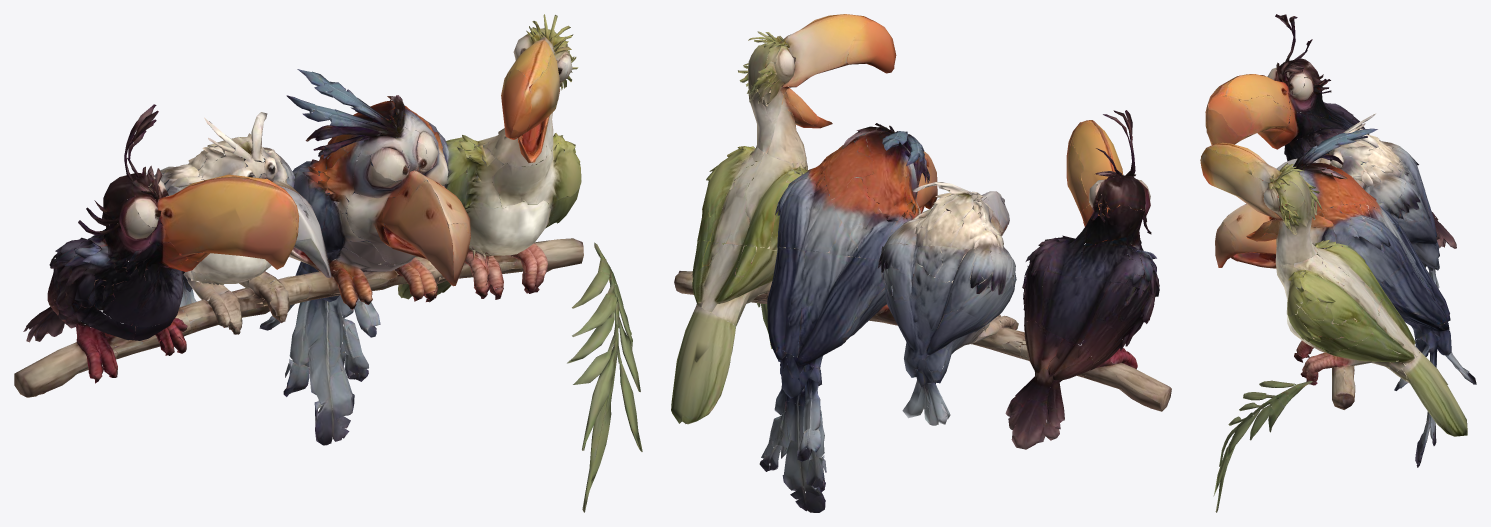
The model's file is songbirds-build44.glb.
3 views of the same model, side by side, from view 1: azimuth 30°, elevation 25°; view 2: azimuth 150°, elevation 25°; view 3: azimuth 270°, elevation 25° (orthographic). The views are drawn at different scales.
Parts seen in each view (by area): view 1: songbirds; view 2: songbirds; view 3: songbirds.
Boxes of the visible parts, <box> form: songbirds: <box>14,14,642,512</box>; songbirds: <box>671,14,1171,512</box>; songbirds: <box>1200,14,1476,512</box>.
Size of the model in its own units: 1 by 0.7883 by 0.5564.
Materials: 1 (1 with a texture image).
